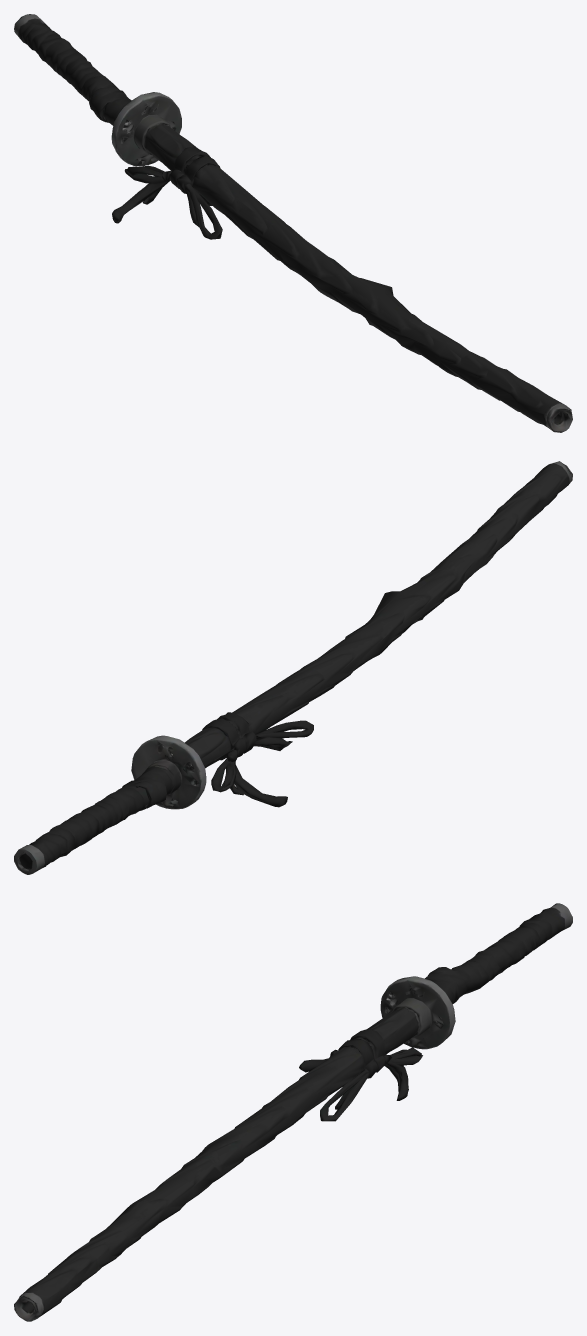
The model's file is katana_sheathed.glb.
3 renders of one model, top to bottom at view 1: azimuth 30°, elevation 25°; view 2: azimuth 150°, elevation 25°; view 3: azimuth 330°, elevation 25°, orthographic.
Parts seen in each view (by area): view 1: Sheath; view 2: Sheath; view 3: Sheath.
Part boxes in pixels (left/top/right/bottom): Sheath: left=14, top=14, right=572, bottom=432; Sheath: left=14, top=461, right=572, bottom=874; Sheath: left=14, top=903, right=572, bottom=1321.
Bounding box in the file's own units: 0.1293 × 0.0994 × 1.1.
1 material, 1 textured.
